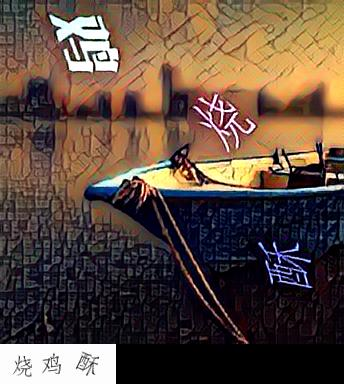character: (45, 9, 127, 77), (189, 88, 259, 155), (254, 238, 318, 293)
